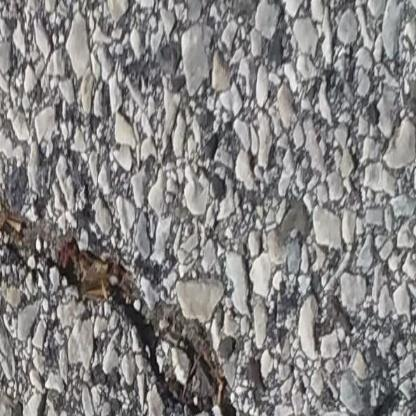Cracks: (0, 209, 276, 416), (379, 394, 416, 416)
